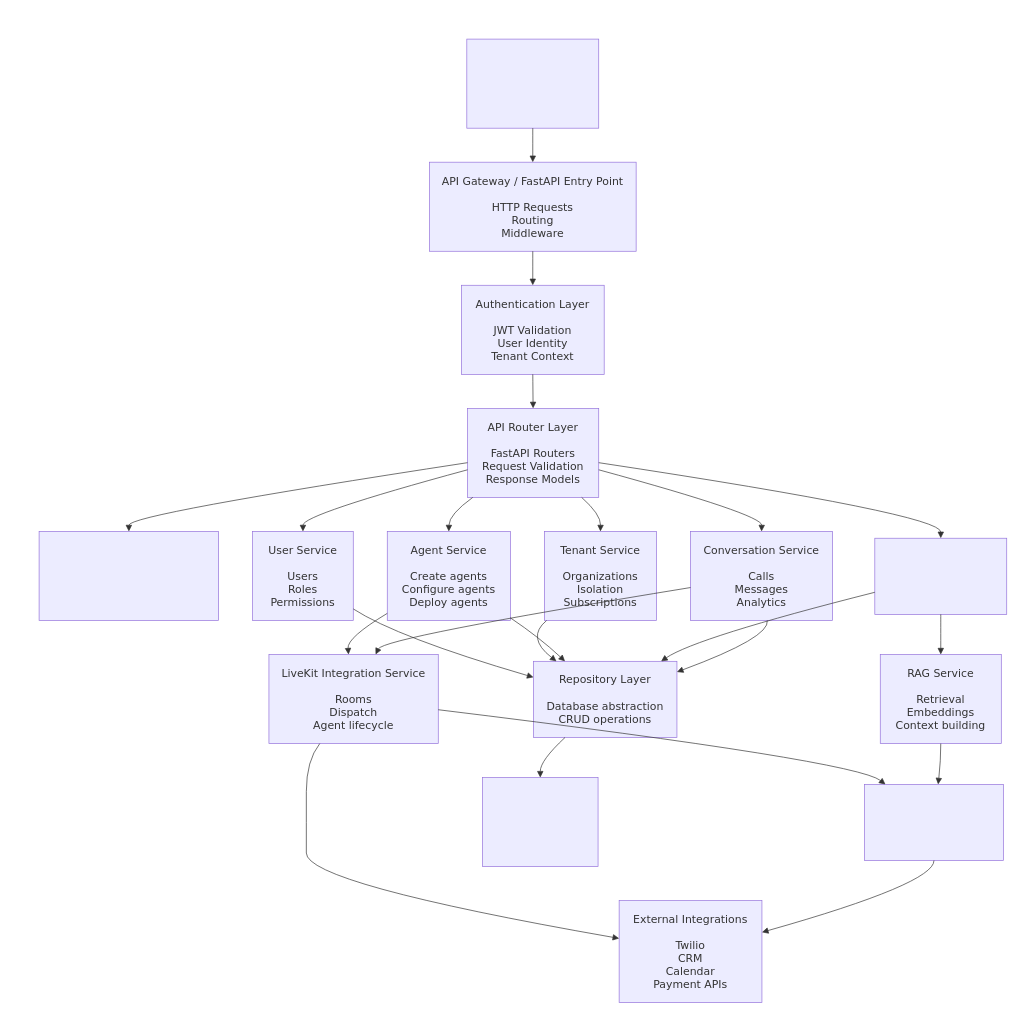
The diagram is 1019 pixels wide and 1015 high, and some of its shapes have lost their labels. Each missing label, with the centre of its shape:
"Client Applications Next.js Dashboard Mobile Apps External Clients" goes at (x=532, y=83).
"Database Layer PostgreSQL pgvector Redis" goes at (x=540, y=822).
"Knowledge Service Upload documents Manage RAG data" goes at (x=940, y=576).
"Tool Service Async function tools External actions" goes at (x=933, y=822).
"WebSocket / Event Handlers Realtime updates Voice events Agent status" goes at (x=128, y=575).
